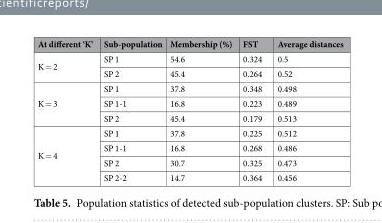table: (36, 37, 342, 183)
table column: (269, 37, 342, 183), (165, 37, 236, 183), (97, 37, 165, 183), (36, 37, 97, 183), (236, 37, 269, 183)
table column header: (36, 37, 342, 50)
table row: (36, 50, 342, 65), (36, 65, 342, 80), (36, 80, 342, 95), (36, 95, 342, 110), (36, 110, 342, 125), (36, 125, 342, 140), (36, 154, 342, 169), (36, 140, 342, 154), (36, 169, 342, 183), (36, 37, 342, 50)
table spanning cell: (36, 125, 97, 183), (36, 80, 97, 125), (36, 50, 97, 80)
